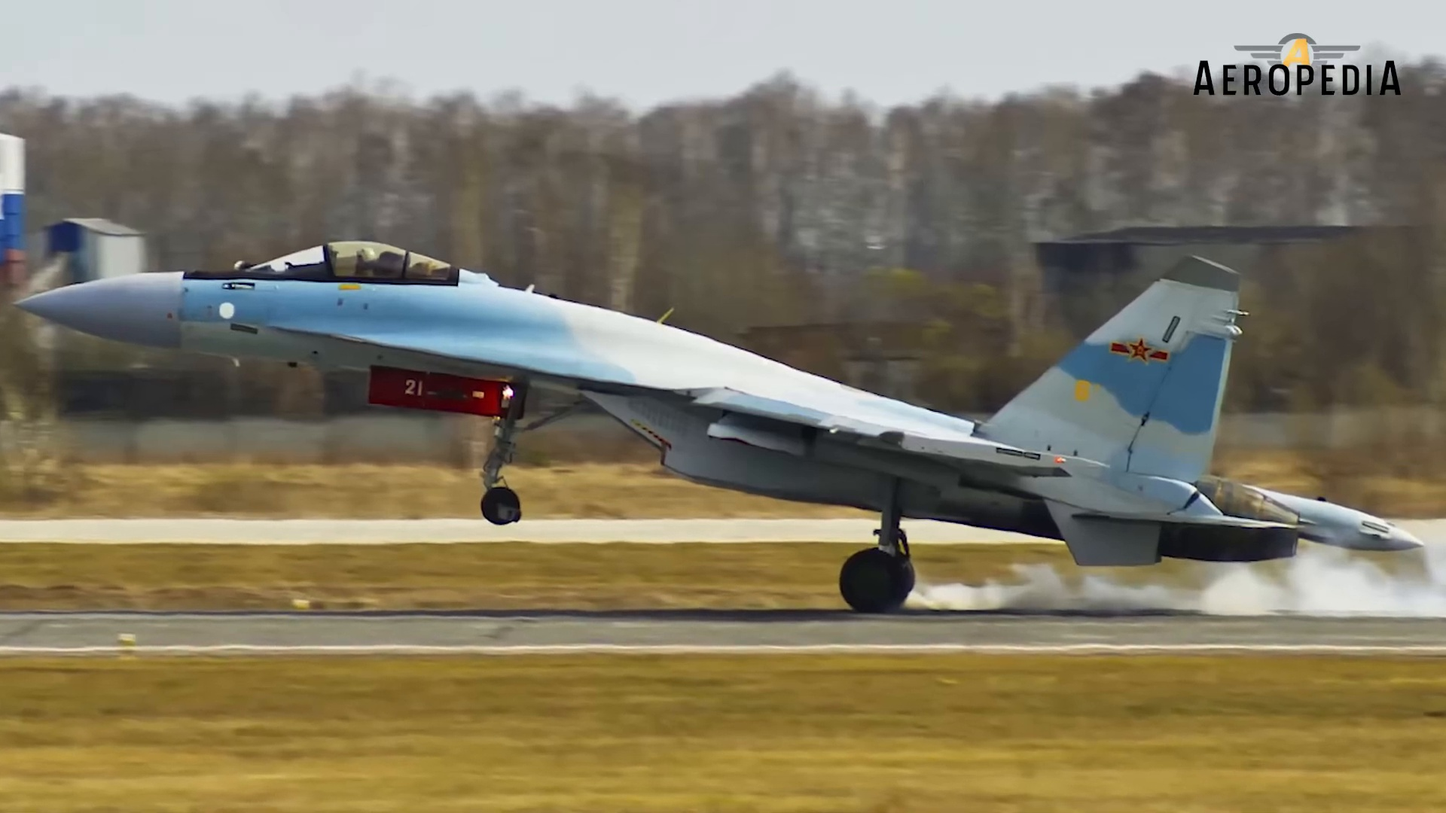Su35: (11, 240, 1424, 610)
